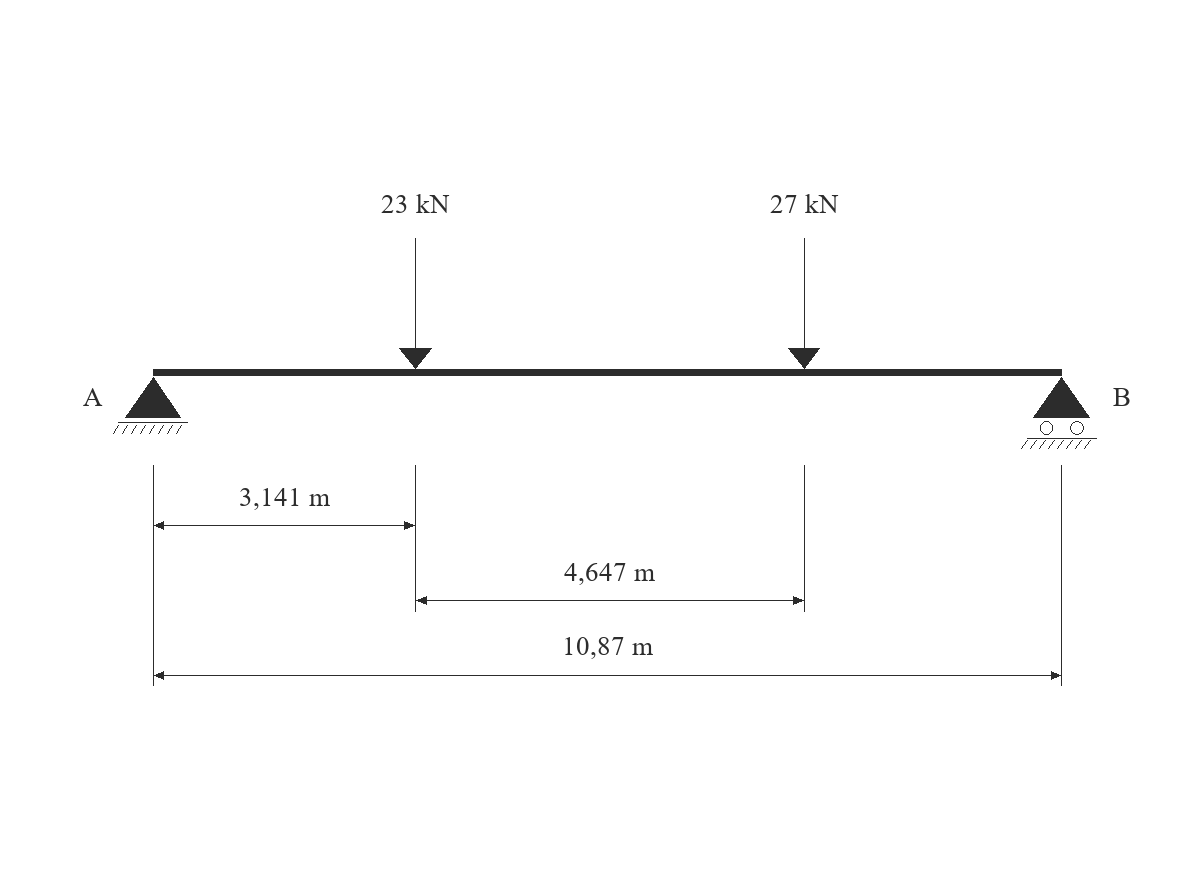pin_support: (113, 377, 188, 434)
point_load: (399, 238, 432, 369), (788, 238, 820, 369)
roller_support: (1021, 377, 1097, 449)
